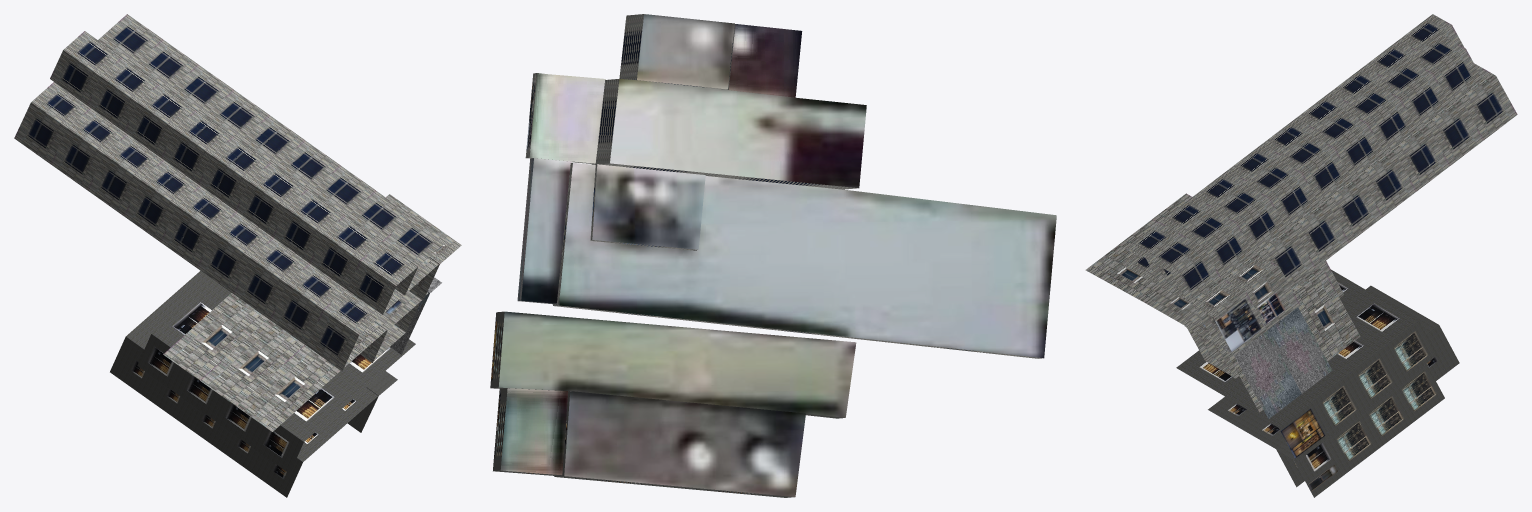
3 views of the same model, side by side, from view 1: azimuth 30°, elevation 25°; view 2: azimuth 150°, elevation 25°; view 3: azimuth 270°, elevation 25° (orthographic). The views are drawn at different scales.
Bounding box in the file's own units: 27.41 × 32.37 × 33.05.
Materials: 26 (26 with a texture image).
